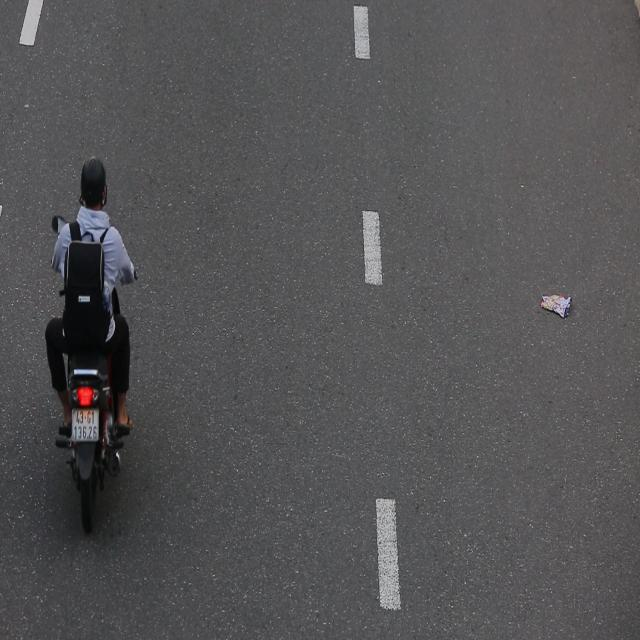motorbike: (31, 140, 147, 544)
